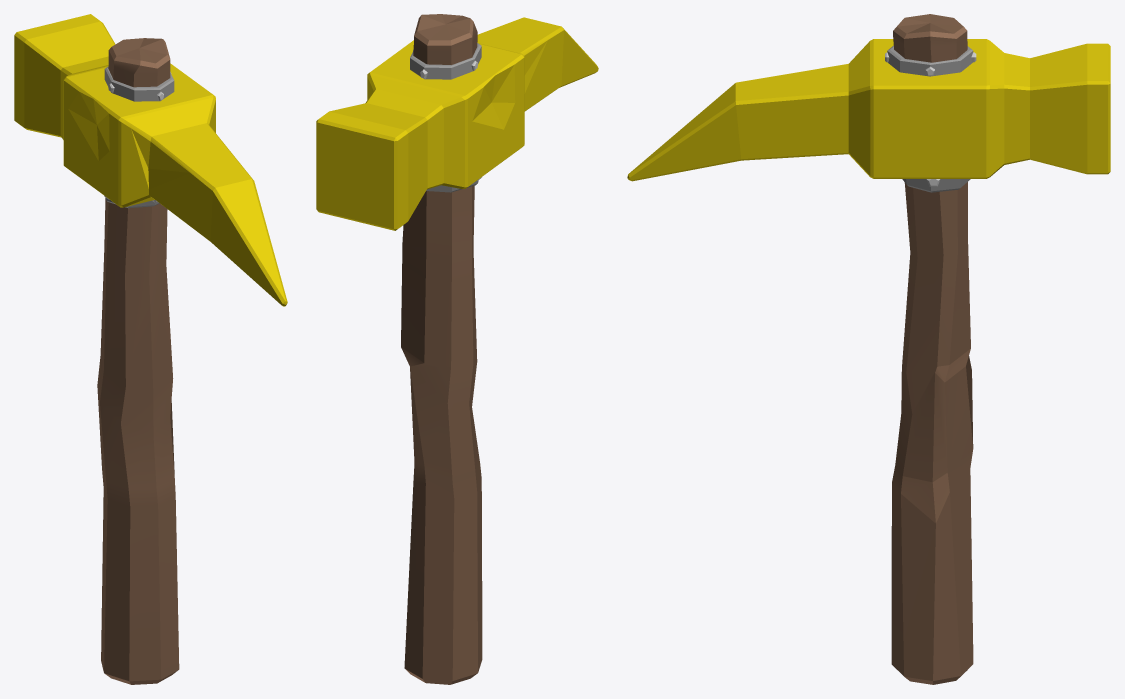
Rendered from Hammer4_Gold.fbx.
The picture shows the model from 3 angles, left to right: view 1: azimuth 30°, elevation 25°; view 2: azimuth 150°, elevation 25°; view 3: azimuth 270°, elevation 25°; orthographic projection. The views are drawn at different scales.
Parts seen in each view (by area): view 1: Hammer4_Gold; view 2: Hammer4_Gold; view 3: Hammer4_Gold.
Part boxes in pixels (x1,y1,x2,y2): Hammer4_Gold: (14, 14, 287, 684); Hammer4_Gold: (316, 14, 598, 684); Hammer4_Gold: (627, 14, 1110, 684).
Size of the model in its own units: 9.23 by 57.03 by 38.39.
